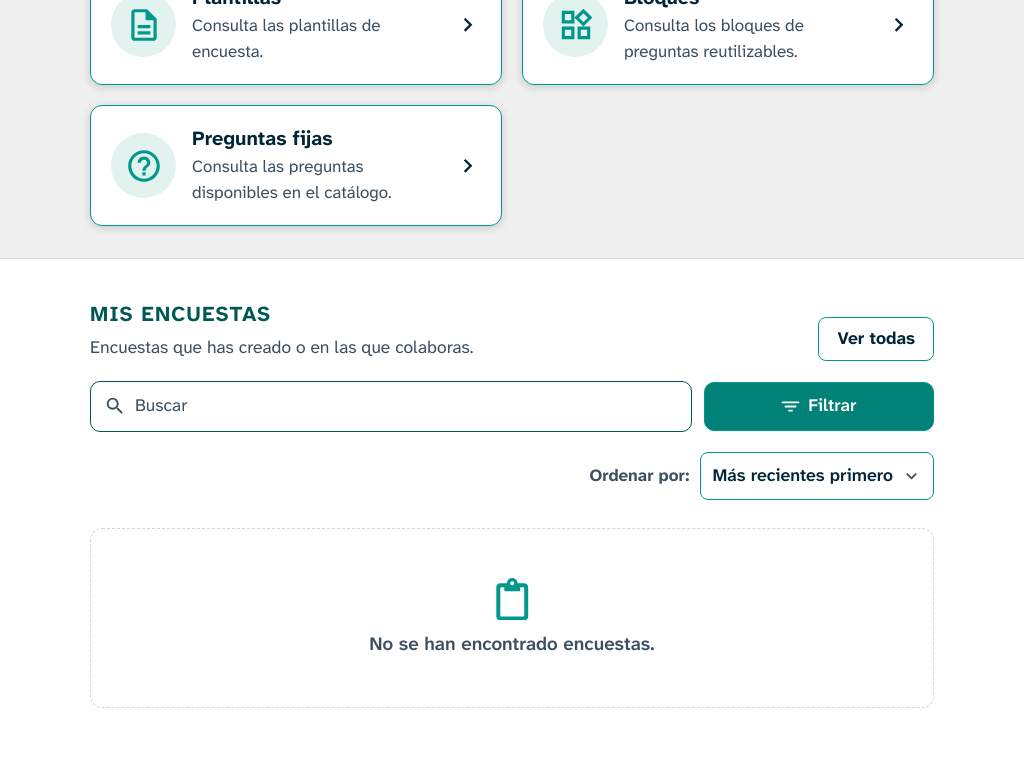
it: PanelPage › muestra un aviso al desmarcar todos los tipos de acceso
(page scrolled)
Click the button with aria-label "Filtrar:": (819,406) [704,382,934,431]
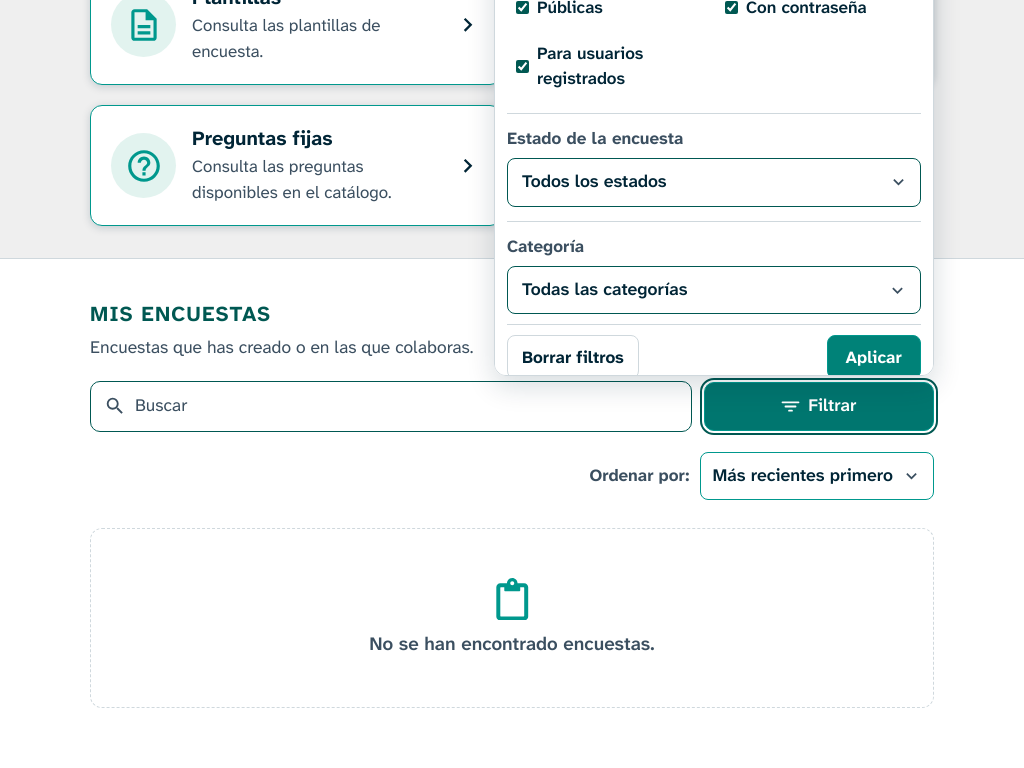
Click the checkbox labelled "Públicas": (522,8) [516,1,529,14]
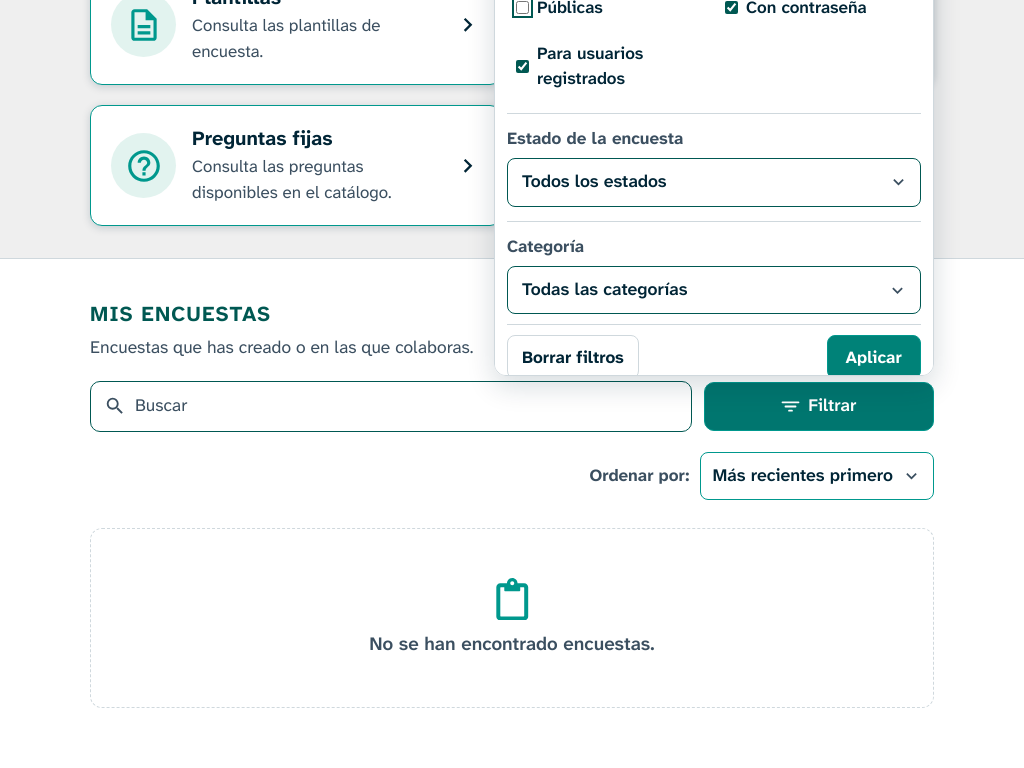
Click the checkbox labelled "Con contraseña": (731,8) [725,1,738,14]
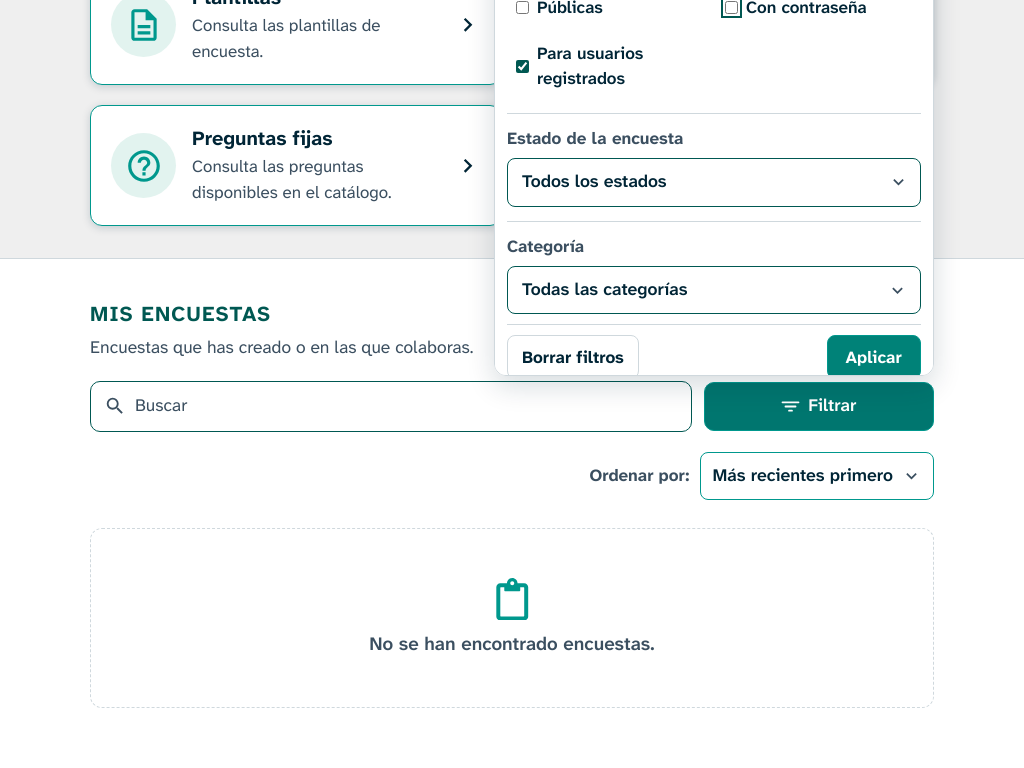
Click the checkbox labelled "Para usuarios registrados": (522,66) [516,60,529,73]
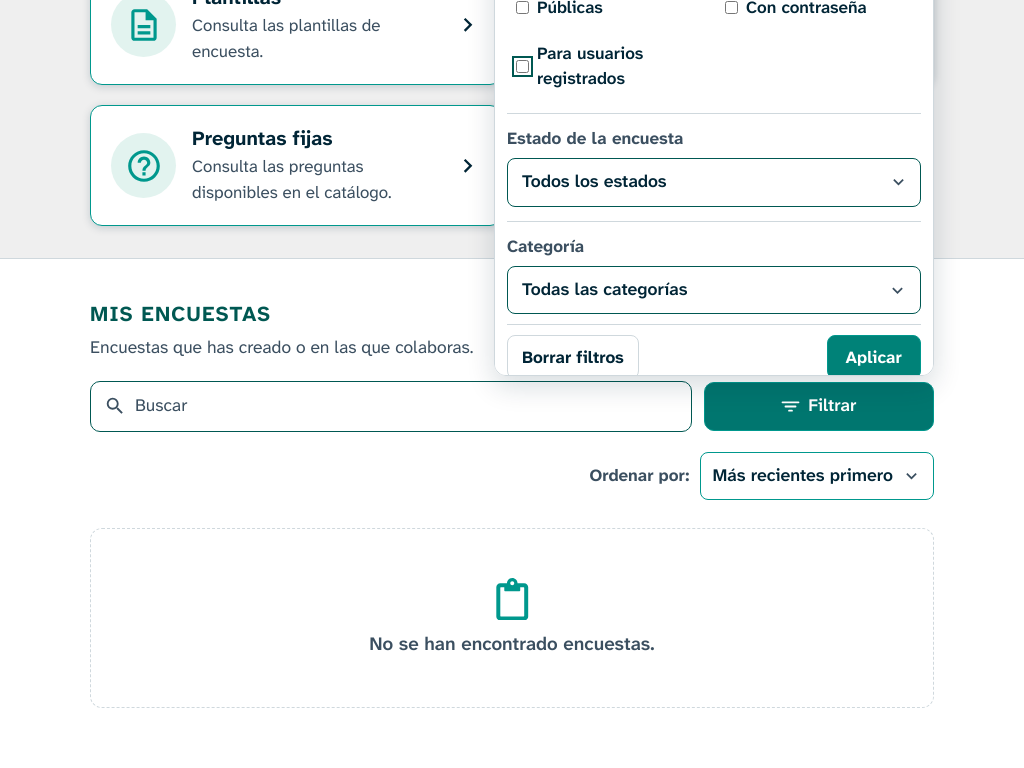
Click the button "Aplicar": (874,357) [827,335,921,379]
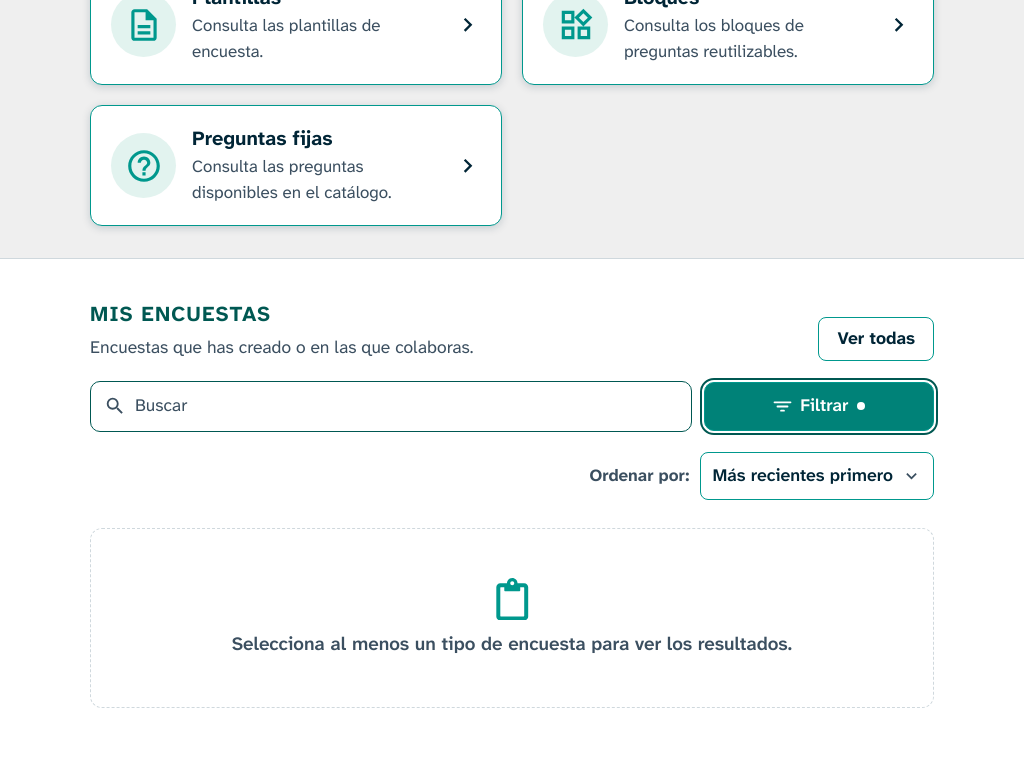
Expected: the text "Selecciona al menos un tipo de encuesta para ver los resultados." is shown, [232,630,792,658]
